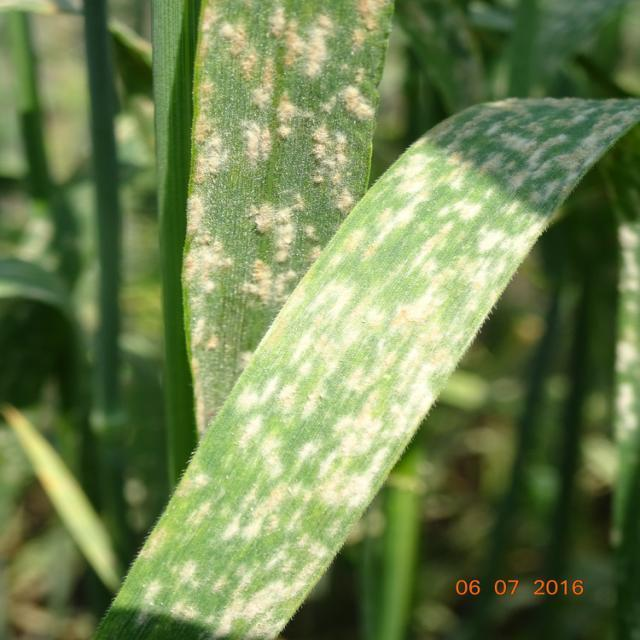Powdery Mildew: (189, 0, 581, 640)
